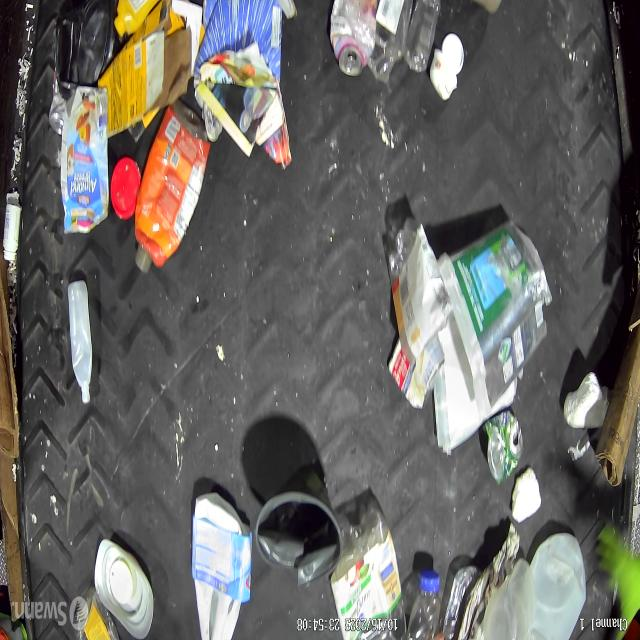can: (388, 334, 446, 409), (328, 1, 374, 77), (484, 410, 522, 488)
milk_jug: (191, 491, 243, 640), (522, 534, 586, 640)
non_white_jug: (60, 84, 109, 234), (114, 1, 158, 38)
plastic_bottle: (403, 0, 440, 73), (406, 568, 441, 640)
